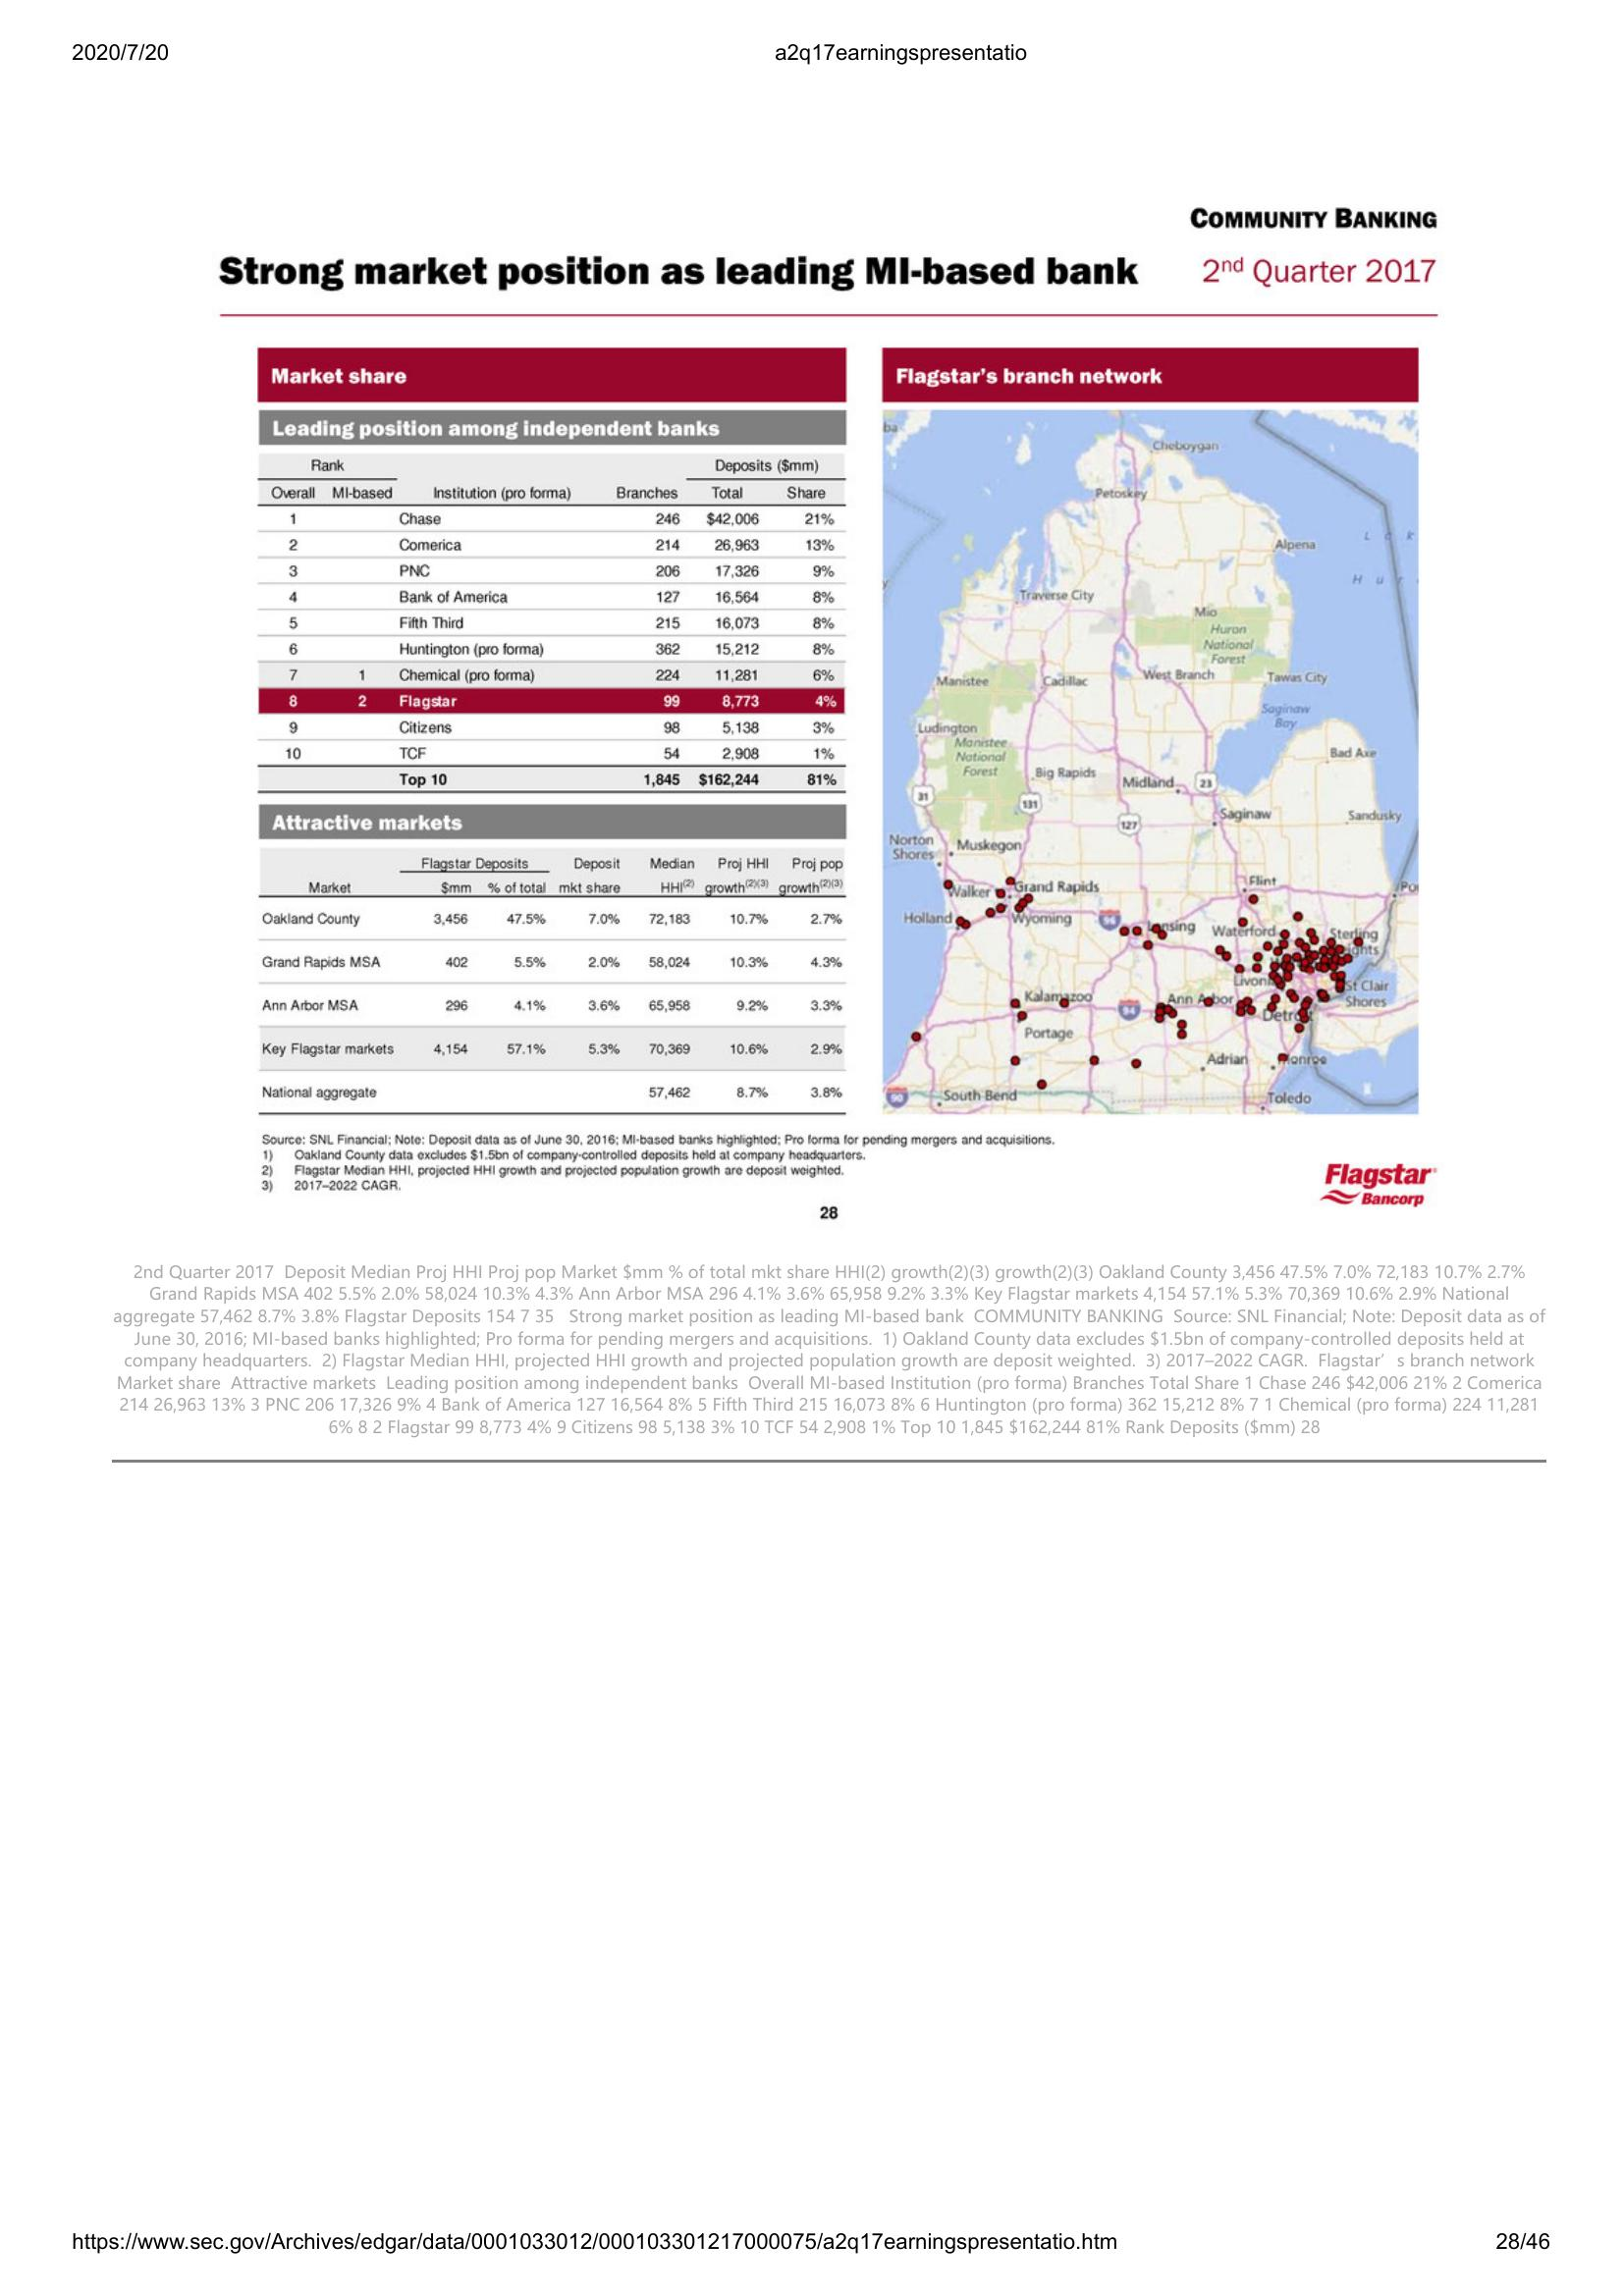table: (242, 395, 850, 800), (251, 792, 852, 1125)
